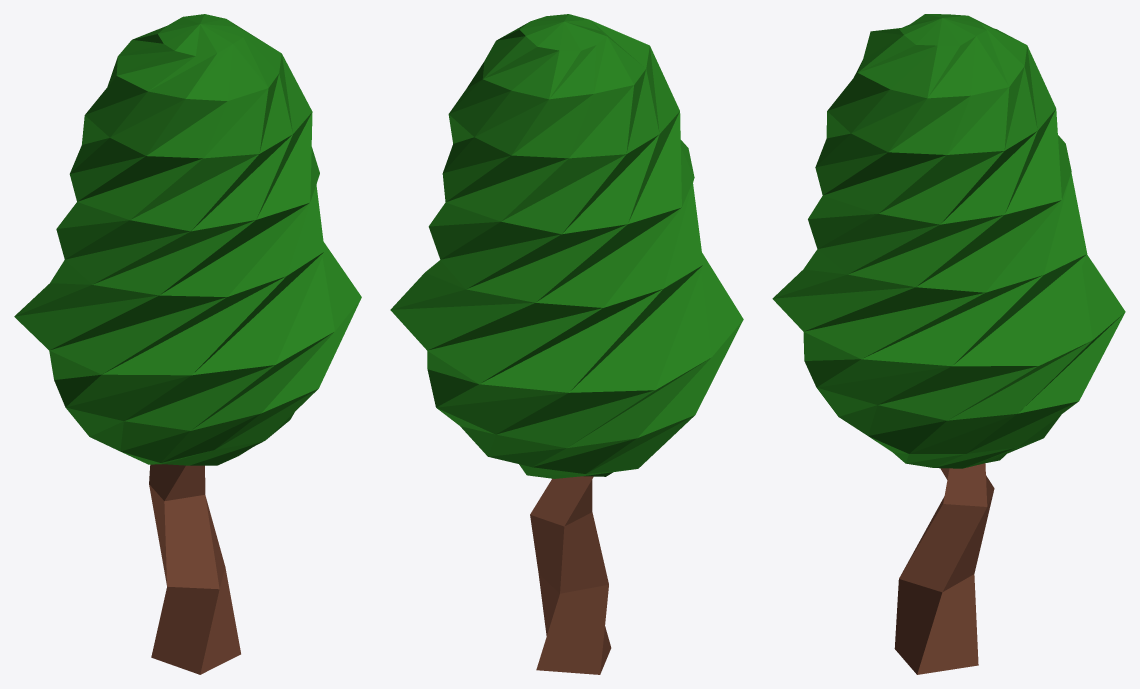
Rendered from Tree_14_summer_vc.fbx.
3 renders of one model, left to right at view 1: azimuth 30°, elevation 25°; view 2: azimuth 150°, elevation 25°; view 3: azimuth 270°, elevation 25°, orthographic. The views are drawn at different scales.
Parts seen in each view (by area): view 1: Tree_14_summer_vc; view 2: Tree_14_summer_vc; view 3: Tree_14_summer_vc.
Boxes of the visible parts, x1,y1,x2,y2 form: Tree_14_summer_vc: (14, 14, 361, 674); Tree_14_summer_vc: (390, 14, 743, 674); Tree_14_summer_vc: (772, 14, 1125, 674).
Size of the model in its own units: 2.71 by 5.79 by 2.89.
